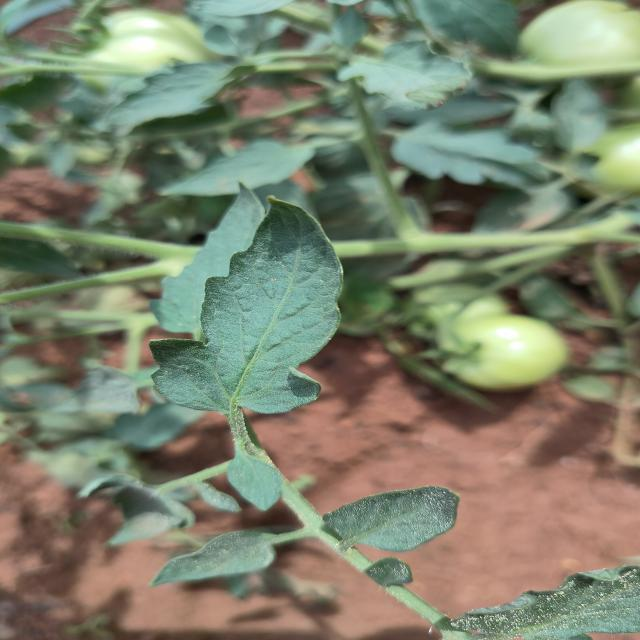tomato_healthy: (149, 200, 341, 510), (149, 200, 341, 415), (322, 487, 458, 552), (160, 139, 314, 195)
